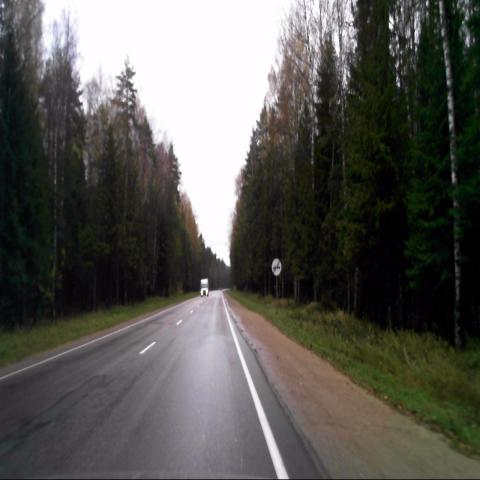3_21: (271, 256, 282, 277)
